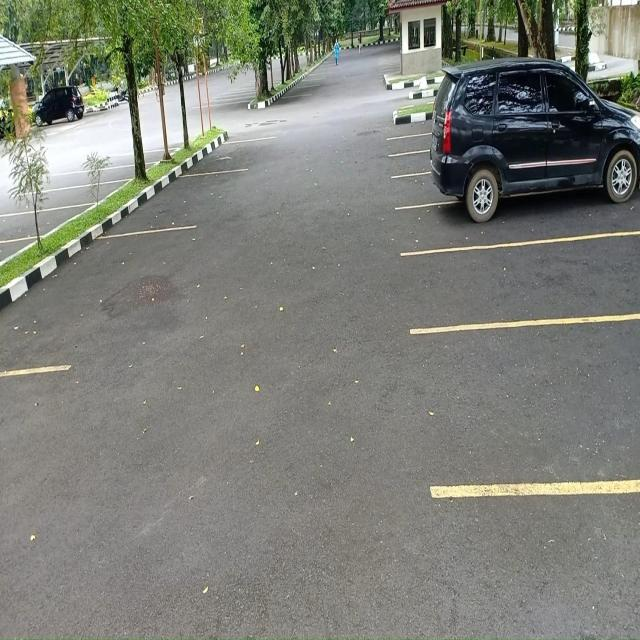Car: (423, 138, 640, 250)
Vacant: (438, 319, 640, 493), (37, 229, 188, 373), (420, 238, 640, 324), (134, 170, 239, 234), (0, 207, 62, 239), (210, 138, 265, 174), (39, 182, 111, 208), (67, 167, 134, 186)
